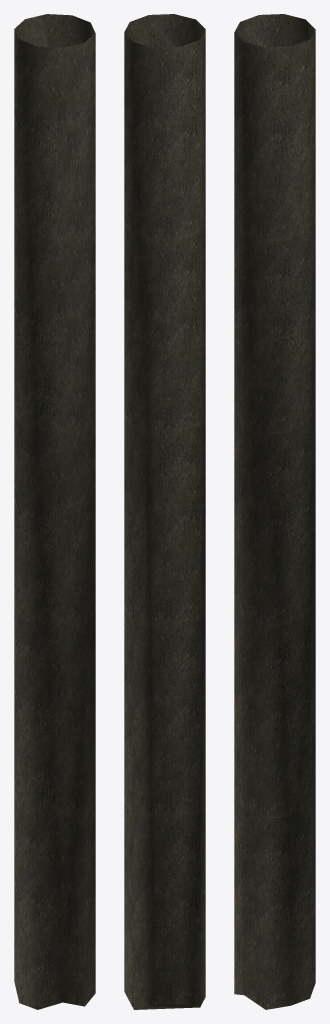
The model's file is EVT_TPL_PILLAR_01.glb.
3 views of the same model, side by side, from view 1: azimuth 30°, elevation 25°; view 2: azimuth 150°, elevation 25°; view 3: azimuth 330°, elevation 25° (orthographic).
Parts seen in each view (by area): view 1: Mesh; view 2: Mesh; view 3: Mesh.
Part boxes in pixels (left/top/right/bottom): Mesh: left=14, top=14, right=95, bottom=1009; Mesh: left=124, top=14, right=205, bottom=1009; Mesh: left=234, top=14, right=315, bottom=1009.
Bounding box in the file's own units: 1.16 × 15.07 × 1.11.
Materials: 1 (1 with a texture image).
